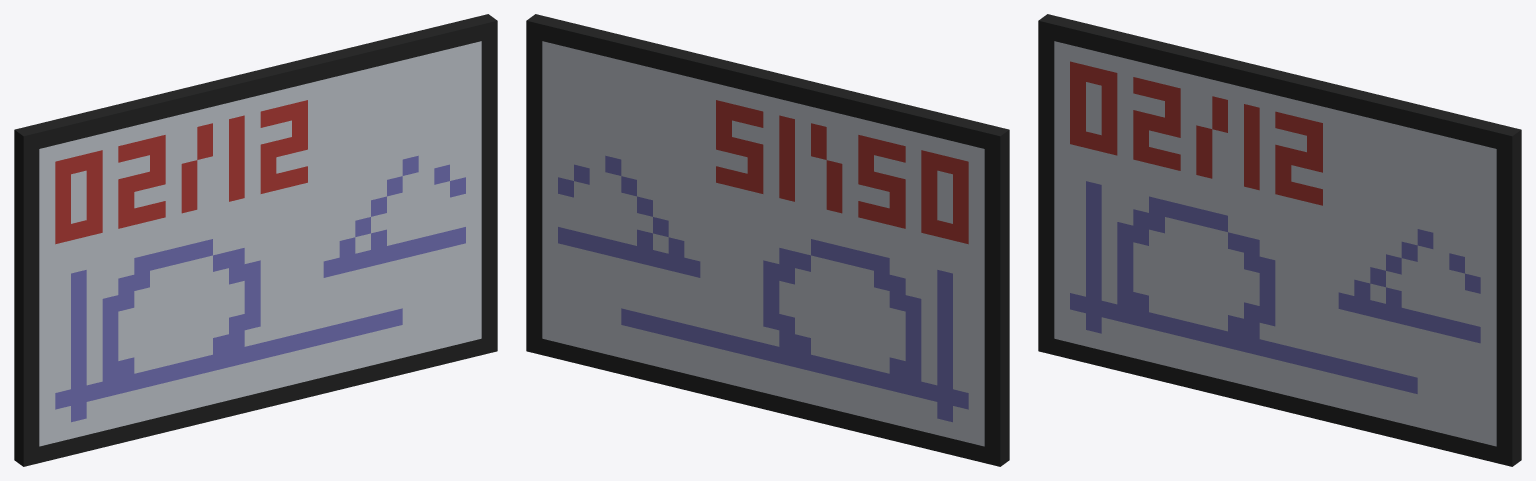
Rendered from whiteboard-1.obj.
3 views of the same model, side by side, from view 1: azimuth 30°, elevation 25°; view 2: azimuth 150°, elevation 25°; view 3: azimuth 330°, elevation 25° (orthographic).
Size of the model in its own units: 3 by 2 by 0.1.
Materials: 1 (1 with a texture image).
